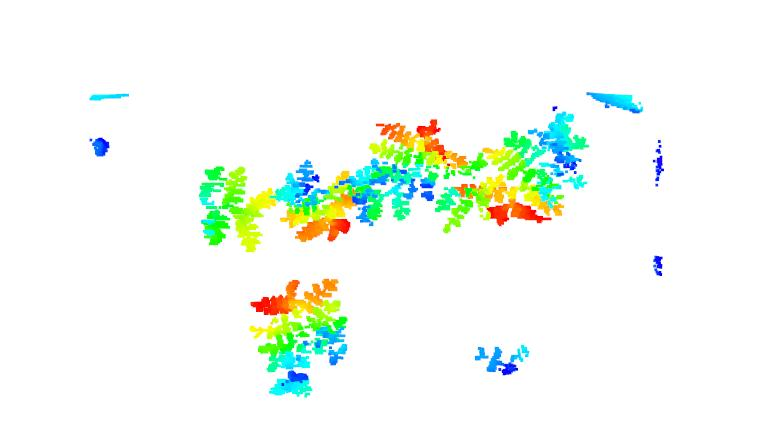chickpea: (450, 107, 591, 231), (248, 277, 352, 399), (352, 113, 455, 230), (196, 162, 276, 251), (273, 157, 354, 244), (472, 341, 531, 379)
